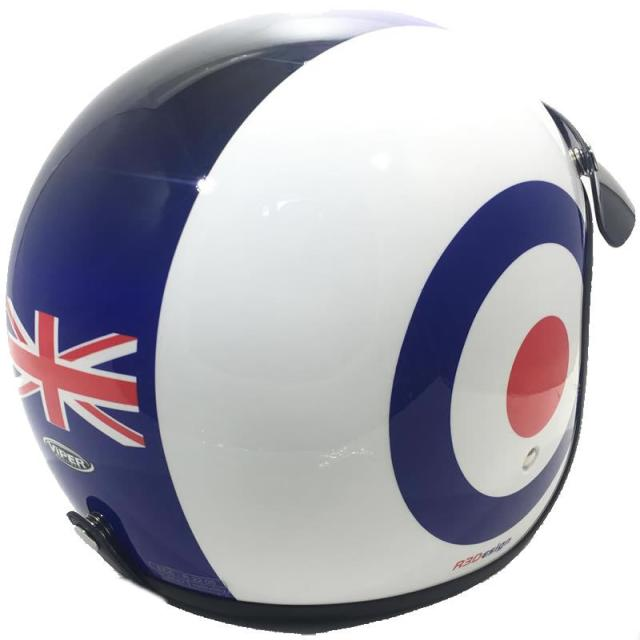Helm: (3, 7, 638, 636)
